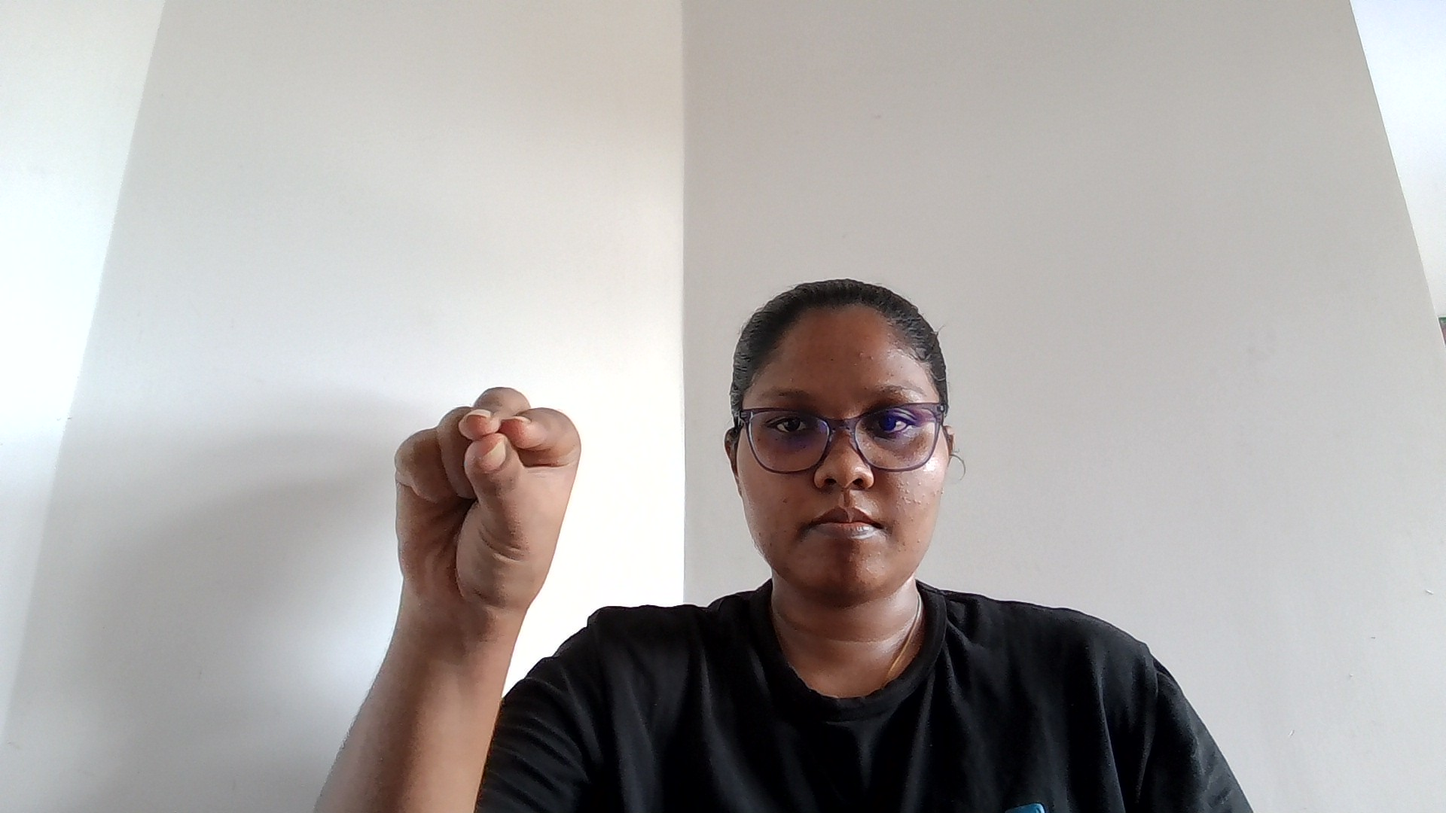No: (269, 373, 672, 606)
